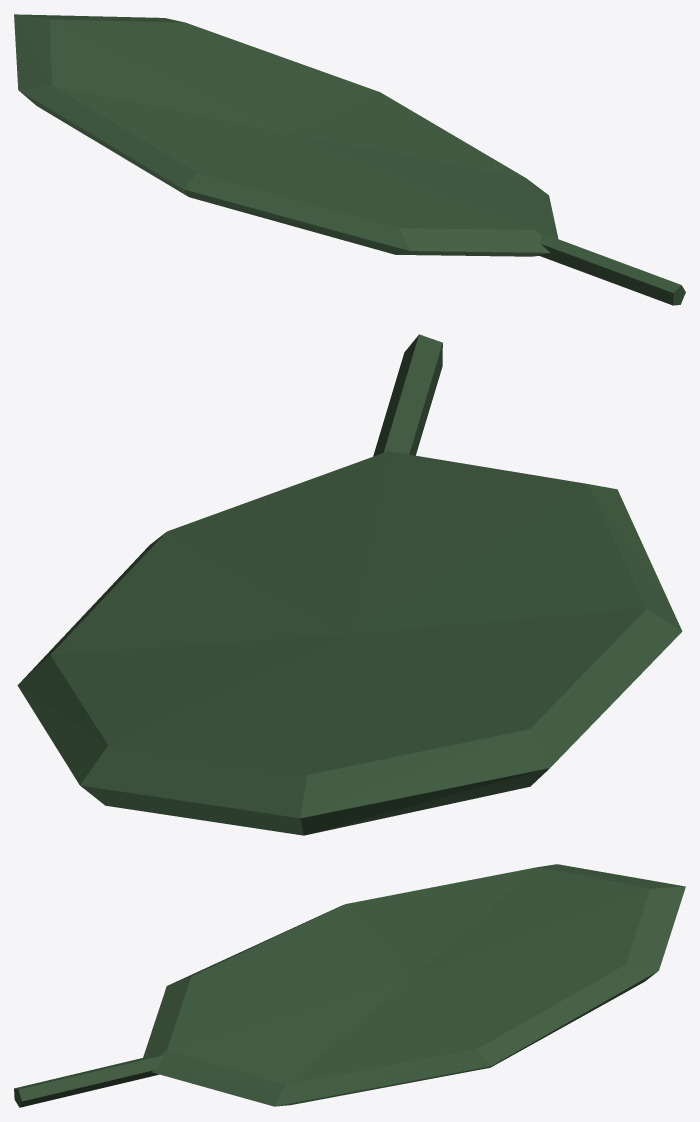
Rendered from vineleaf.fbx.
3 views of the same model, one above another, from view 1: azimuth 30°, elevation 25°; view 2: azimuth 150°, elevation 25°; view 3: azimuth 270°, elevation 25° (orthographic). The views are drawn at different scales.
Visible parts, largest first — view 1: petal, Cylinder; view 2: petal, Cylinder; view 3: petal, Cylinder.
Boxes of the visible parts, <box> form: petal: <box>14,14,558,256</box>; Cylinder: <box>537,232,685,305</box>; petal: <box>17,451,682,835</box>; Cylinder: <box>373,334,442,456</box>; petal: <box>143,864,685,1106</box>; Cylinder: <box>14,1054,165,1107</box>.
Bounding box in the file's own units: 73.87 × 19.78 × 126.
